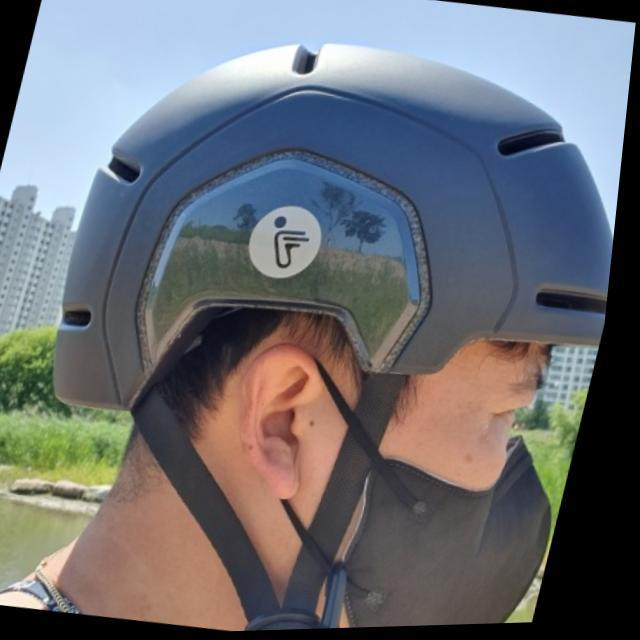Helmet: (43, 23, 617, 640)
